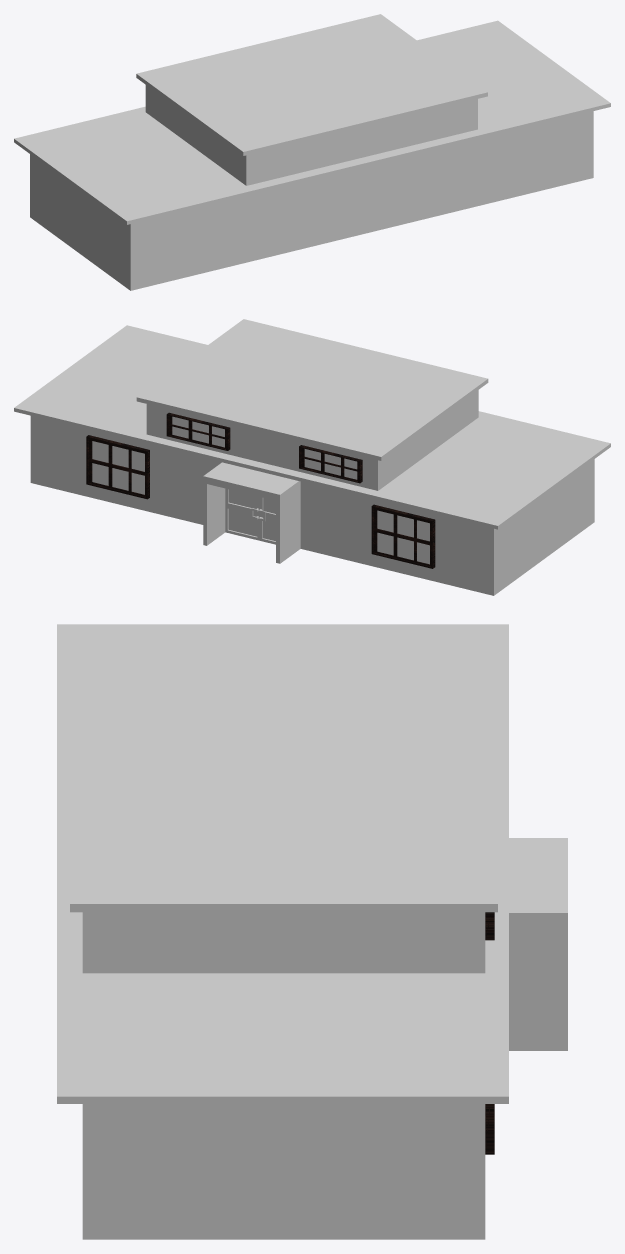
The model's file is building.fbx.
3 renders of one model, top to bottom at view 1: azimuth 30°, elevation 25°; view 2: azimuth 150°, elevation 25°; view 3: azimuth 270°, elevation 25°, orthographic. The views are drawn at different scales.
Parts seen in each view (by area): view 1: Cube; view 2: Cube, Plane, Window_Glass.022, Window_Glass.001, GymDoor_Glass.001, Window_FrameGrid.016, Window_FrameGrid.001, Window_Frame.001, Window_Glass.002, Window_Glass.003, Window_Frame.028, GymDoor.001 (+5 smaller); view 3: Cube, Plane.
Part boxes in pixels (box(x1,y1,x2,y2)): Cube: box(14, 14, 610, 290); Cube: box(14, 319, 610, 595); Plane: box(203, 462, 300, 563); Window_Glass.022: box(92, 441, 144, 494); Window_Glass.001: box(377, 510, 429, 564); GymDoor_Glass.001: box(228, 489, 257, 536); Window_FrameGrid.016: box(89, 439, 145, 496); Window_FrameGrid.001: box(374, 508, 430, 566); Window_Frame.001: box(371, 504, 435, 568); Window_Glass.002: box(304, 449, 357, 479); Window_Glass.003: box(172, 416, 224, 447); Window_Frame.028: box(86, 435, 149, 499); GymDoor.001: box(225, 488, 259, 540); Cube: box(57, 624, 508, 1239); Plane: box(509, 838, 567, 1050).
Bounding box in the file's own units: 2720 × 615 × 1243.
